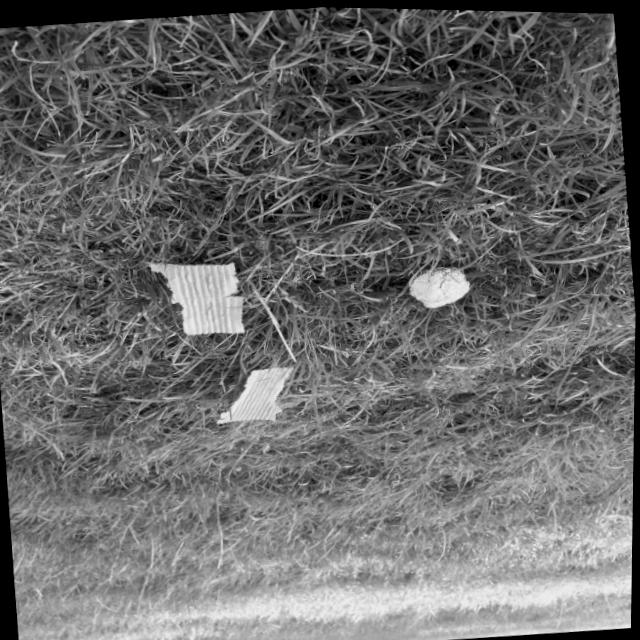Can-Metal: (402, 253, 477, 311)
Cardboard: (135, 245, 253, 343), (207, 358, 306, 429)
